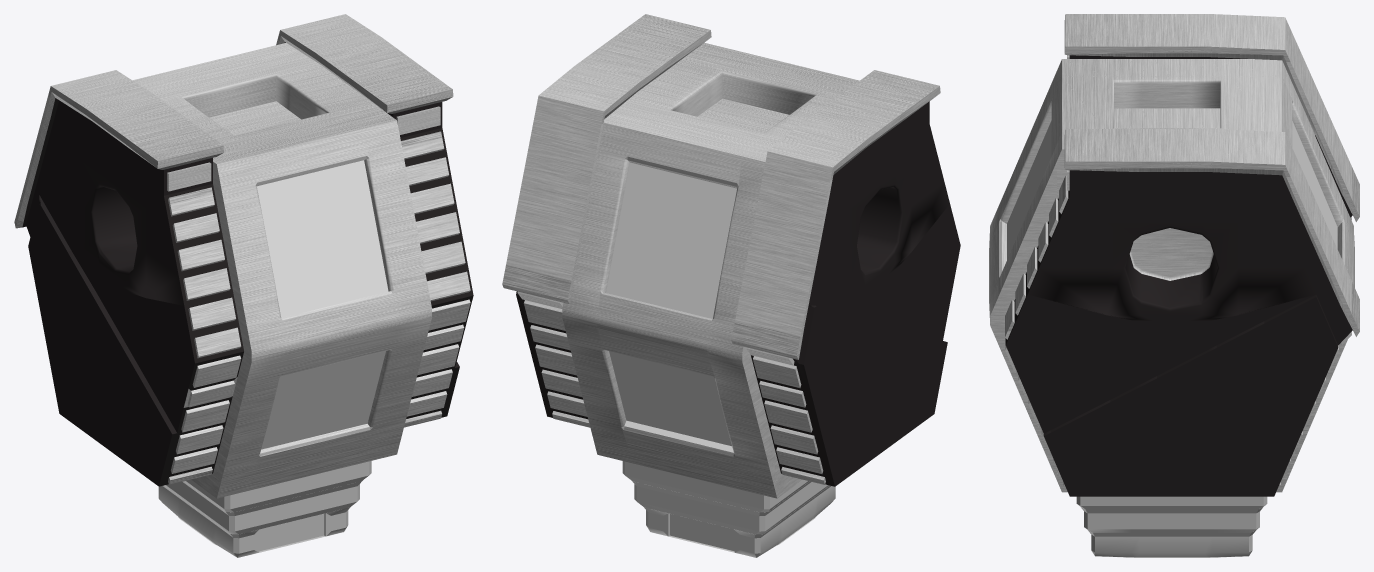
Rendered from Robot_Chest02 (1).FBX.
The picture shows the model from 3 angles, left to right: view 1: azimuth 30°, elevation 25°; view 2: azimuth 150°, elevation 25°; view 3: azimuth 270°, elevation 25°; orthographic projection. The views are drawn at different scales.
Parts seen in each view (by area): view 1: Torso, Body sides, Object001, Glowy bits, Bottom; view 2: Torso, Object001, Body sides, Glowy bits, Bottom; view 3: Body sides, Torso, Object001, Bottom, Glowy bits.
Part boxes in pixels (bbox=[...]): Torso: bbox=[133, 43, 431, 498]; Body sides: bbox=[22, 42, 473, 486]; Object001: bbox=[14, 14, 470, 484]; Glowy bits: bbox=[257, 160, 388, 449]; Bottom: bbox=[158, 461, 371, 557]; Torso: bbox=[562, 42, 859, 498]; Object001: bbox=[502, 14, 940, 484]; Body sides: bbox=[516, 101, 960, 486]; Glowy bits: bbox=[606, 162, 736, 452]; Bottom: bbox=[622, 461, 835, 557]; Body sides: bbox=[1005, 55, 1352, 496]; Torso: bbox=[989, 59, 1354, 492]; Object001: bbox=[1005, 14, 1359, 490]; Bottom: bbox=[1076, 496, 1267, 557]; Glowy bits: bbox=[1007, 120, 1337, 259].
Size of the model in its own units: 54.68 by 76.04 by 57.83.
